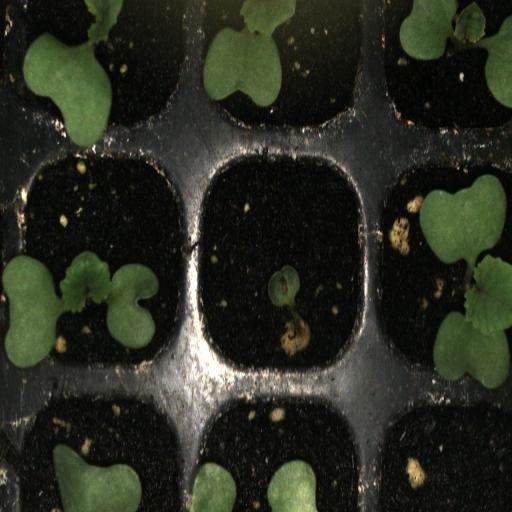Folha: (22, 0, 124, 152), (184, 0, 299, 107), (53, 444, 142, 512), (267, 459, 317, 512), (185, 462, 237, 512)
Germinacao: (193, 141, 373, 382), (16, 140, 191, 386), (374, 144, 512, 384), (374, 0, 512, 143)
